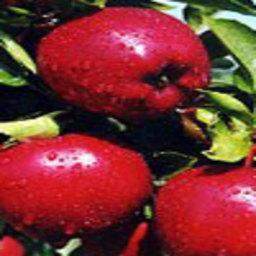apple: (36, 7, 213, 134), (1, 137, 151, 247), (154, 160, 256, 256)
